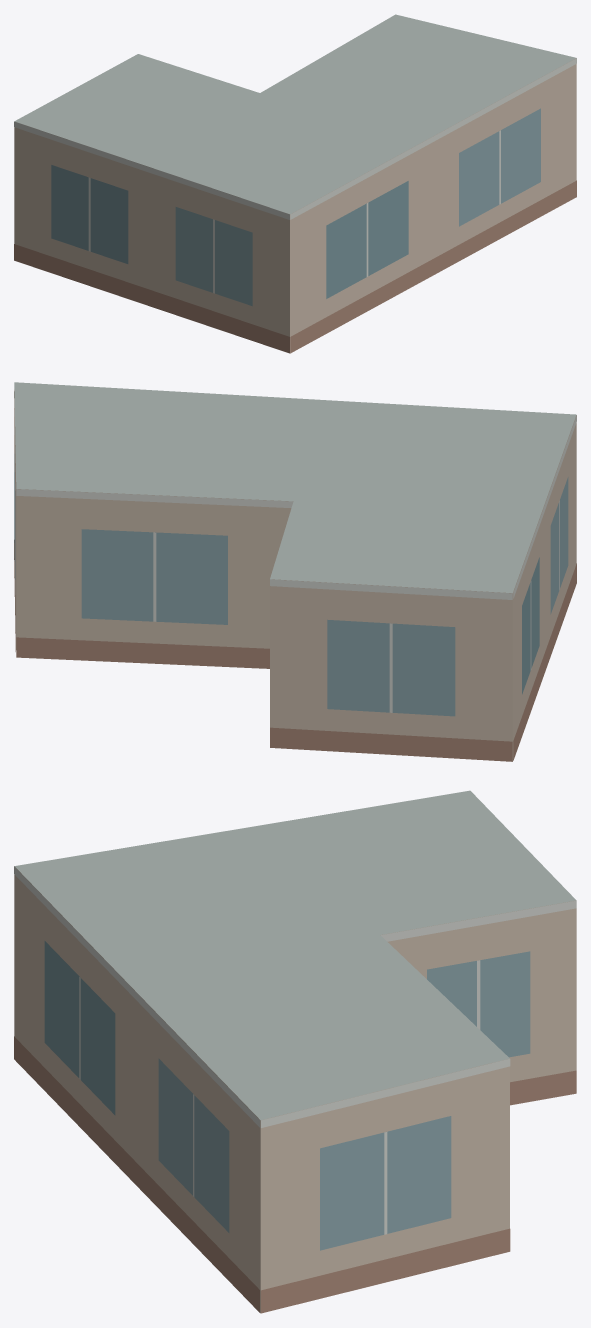
The model's file is survey-upis-32751354.glb.
3 views of the same model, one above another, from view 1: azimuth 30°, elevation 25°; view 2: azimuth 150°, elevation 25°; view 3: azimuth 270°, elevation 25° (orthographic). The views are drawn at different scales.
Parts seen in each view (by area): view 1: survey-upis-32751354.tmp; view 2: survey-upis-32751354.tmp; view 3: survey-upis-32751354.tmp.
Boxes of the visible parts, left/top/right/bottom form: survey-upis-32751354.tmp: left=14, top=14, right=576, bottom=353; survey-upis-32751354.tmp: left=14, top=382, right=576, bottom=761; survey-upis-32751354.tmp: left=14, top=790, right=576, bottom=1313.
Size of the model in its own units: 11.19 by 3.05 by 8.06.
